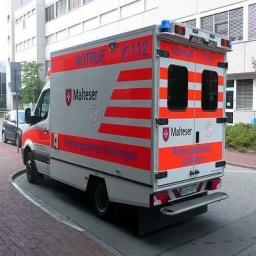ambulance: (22, 21, 229, 217)
